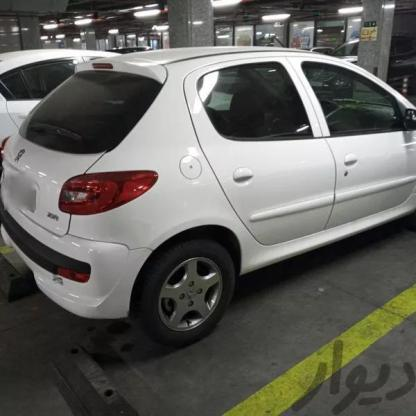Car: (0, 41, 416, 340), (0, 33, 96, 125)
